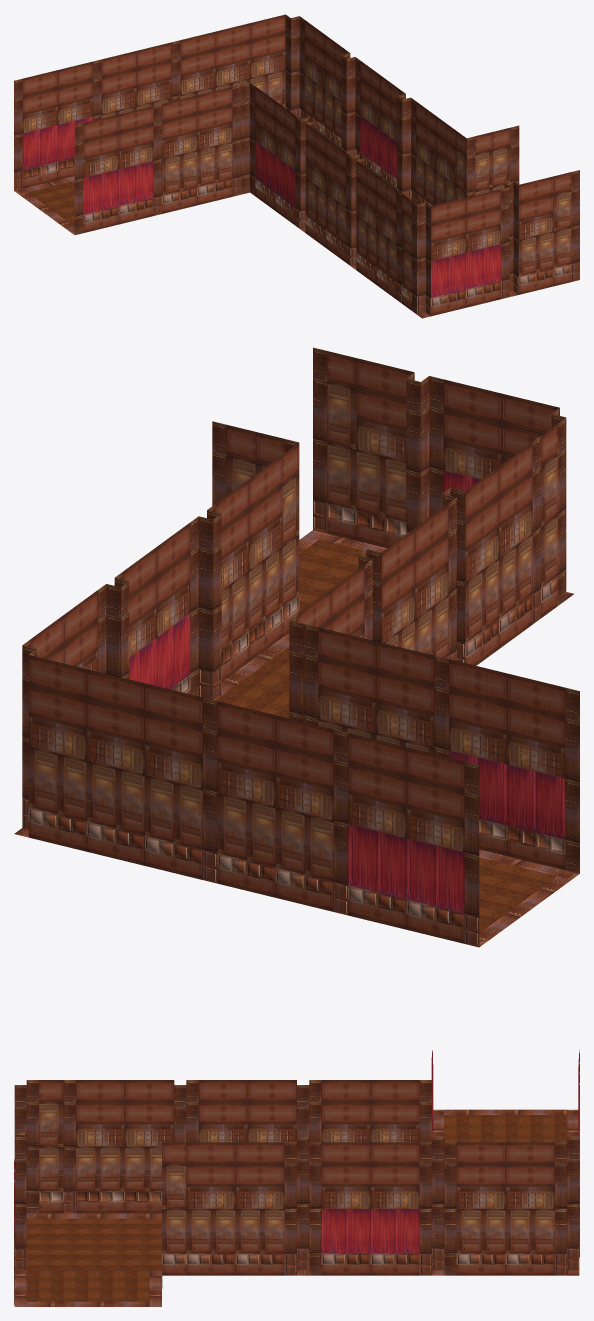
The model's file is env_hallway_02.FBX.
The picture shows the model from 3 angles, top to bottom: view 1: azimuth 30°, elevation 25°; view 2: azimuth 150°, elevation 25°; view 3: azimuth 270°, elevation 25°; orthographic projection. The views are drawn at different scales.
Visible parts, largest first — view 1: floor_tile_2x065; view 2: floor_tile_2x065; view 3: floor_tile_2x065.
Boxes of the visible parts, box(x1,y1,x2,y2) form: floor_tile_2x065: box(14, 14, 579, 318); floor_tile_2x065: box(14, 347, 579, 947); floor_tile_2x065: box(14, 1050, 579, 1306).
Size of the model in its own units: 748 by 236 by 907.
Materials: 4 (4 with a texture image).
